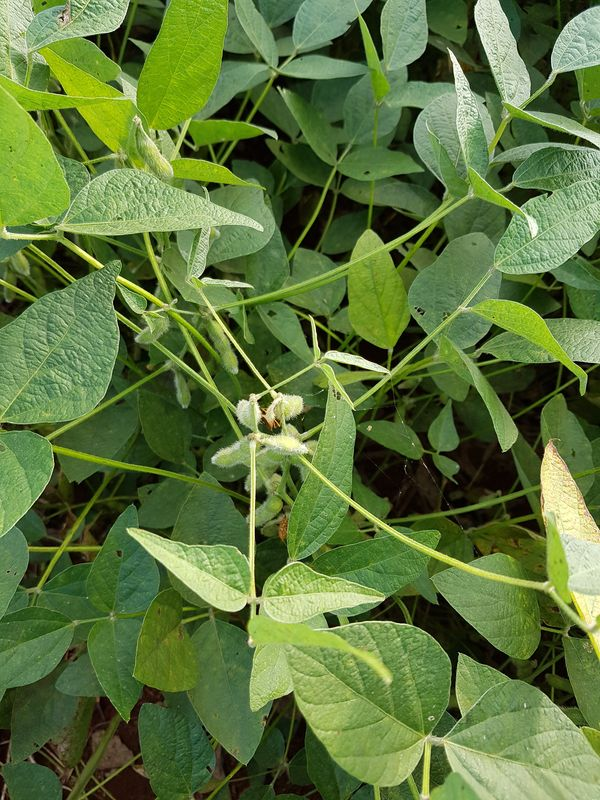Euschistus_heros_adulto: (250, 402, 288, 437), (266, 514, 301, 552)
